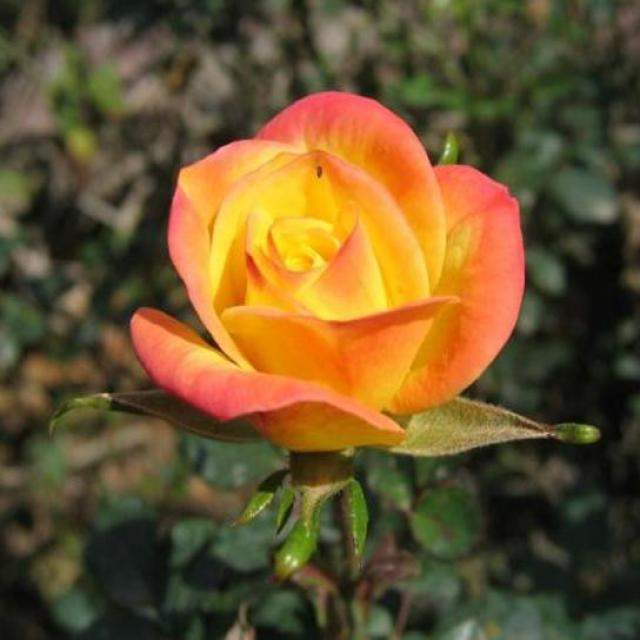rose: (100, 70, 538, 534)
